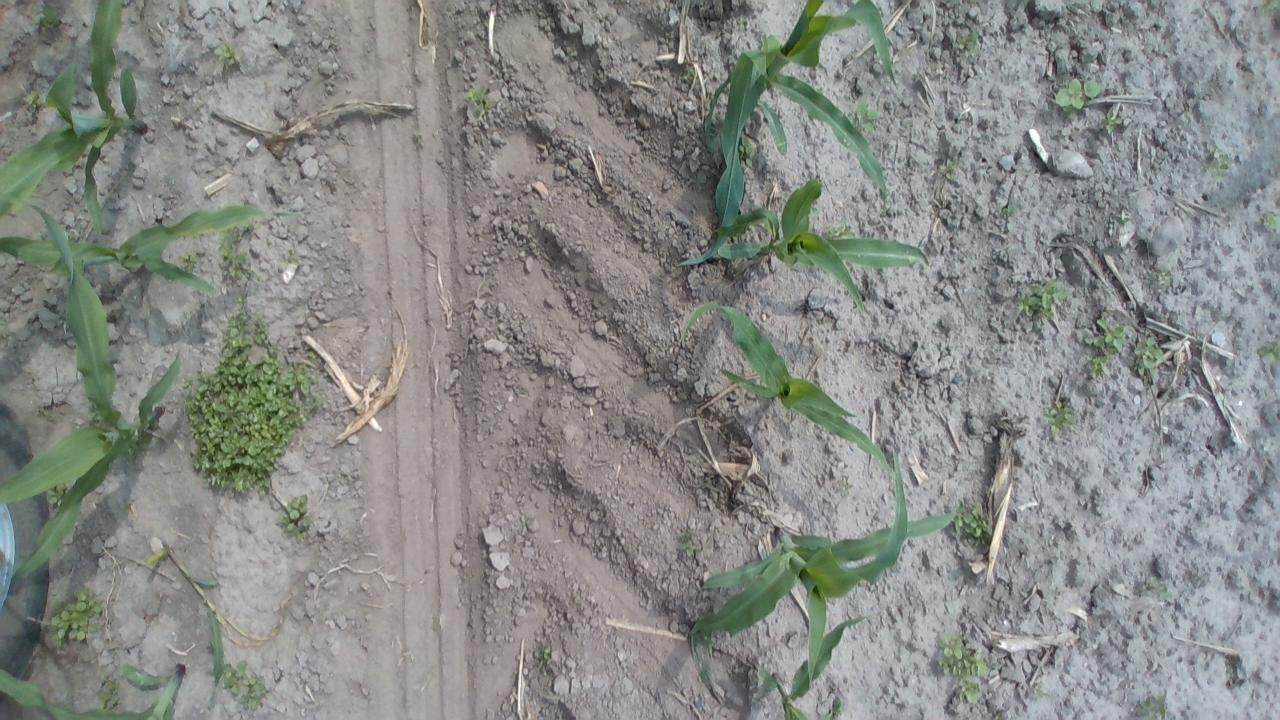Maize: (682, 445, 972, 712), (0, 188, 192, 589), (676, 0, 899, 270), (674, 298, 902, 480), (0, 0, 155, 248), (0, 200, 299, 304), (711, 176, 936, 314), (0, 652, 205, 720), (756, 613, 875, 720)
Weeds: (177, 300, 328, 508), (934, 628, 992, 708), (50, 591, 111, 645), (1082, 314, 1126, 386), (1010, 272, 1070, 324), (216, 220, 258, 292), (218, 662, 270, 715), (950, 498, 1001, 546), (1050, 74, 1104, 115), (276, 491, 314, 545), (1038, 394, 1078, 444), (1131, 330, 1165, 382), (460, 84, 498, 130), (850, 98, 890, 138), (90, 672, 127, 714), (1130, 688, 1176, 720), (946, 29, 984, 66), (996, 204, 1034, 240), (676, 526, 707, 570), (1140, 572, 1170, 616), (17, 87, 45, 131), (1198, 147, 1230, 185), (25, 2, 63, 34), (824, 217, 864, 243), (1254, 204, 1280, 239), (736, 131, 758, 171), (177, 249, 207, 278), (212, 41, 240, 70), (1026, 676, 1056, 701), (934, 156, 964, 180), (534, 644, 558, 674), (1255, 336, 1280, 362), (1148, 262, 1174, 284), (733, 15, 755, 38), (1249, 0, 1280, 16), (1098, 114, 1118, 132), (679, 64, 694, 82), (1114, 208, 1132, 222)
